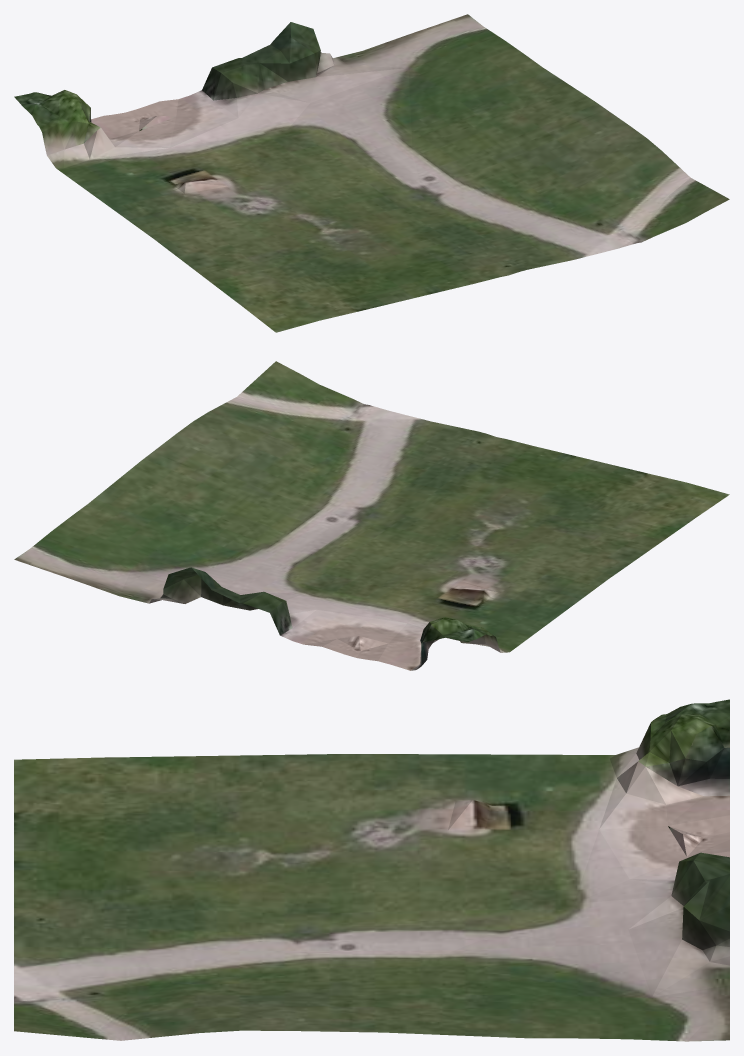
The model's file is helsinki-6-1.glb.
3 renders of one model, top to bottom at view 1: azimuth 30°, elevation 25°; view 2: azimuth 150°, elevation 25°; view 3: azimuth 270°, elevation 25°, orthographic. The views are drawn at different scales.
Size of the model in its own units: 31.75 by 3.7 by 31.75.
1 material, 1 textured.
